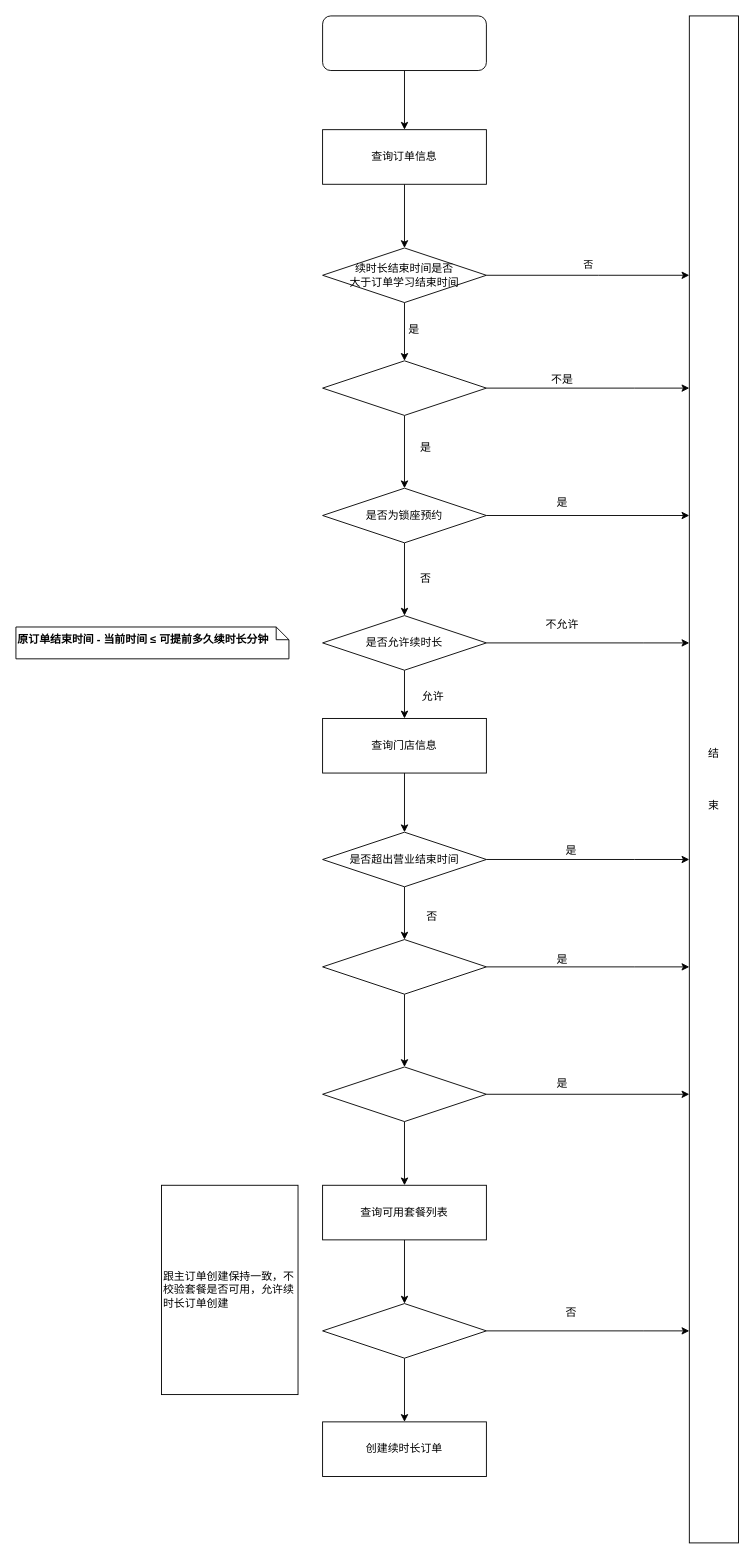
The diagram is 754 pixels wide and 1559 high, and some of its shapes have lost their labels. The box of each missing label's shape, as (x1, y1, x2, y2) in pixels:
套餐是否可用: (322, 1303, 486, 1358)
用户是否黑名单和爽约: (322, 939, 486, 994)
续时长的时间座位 是否被占用: (322, 1066, 486, 1122)
订单ID、续时长结束时间: (322, 15, 486, 71)
订单是否进行中: (322, 360, 486, 415)
